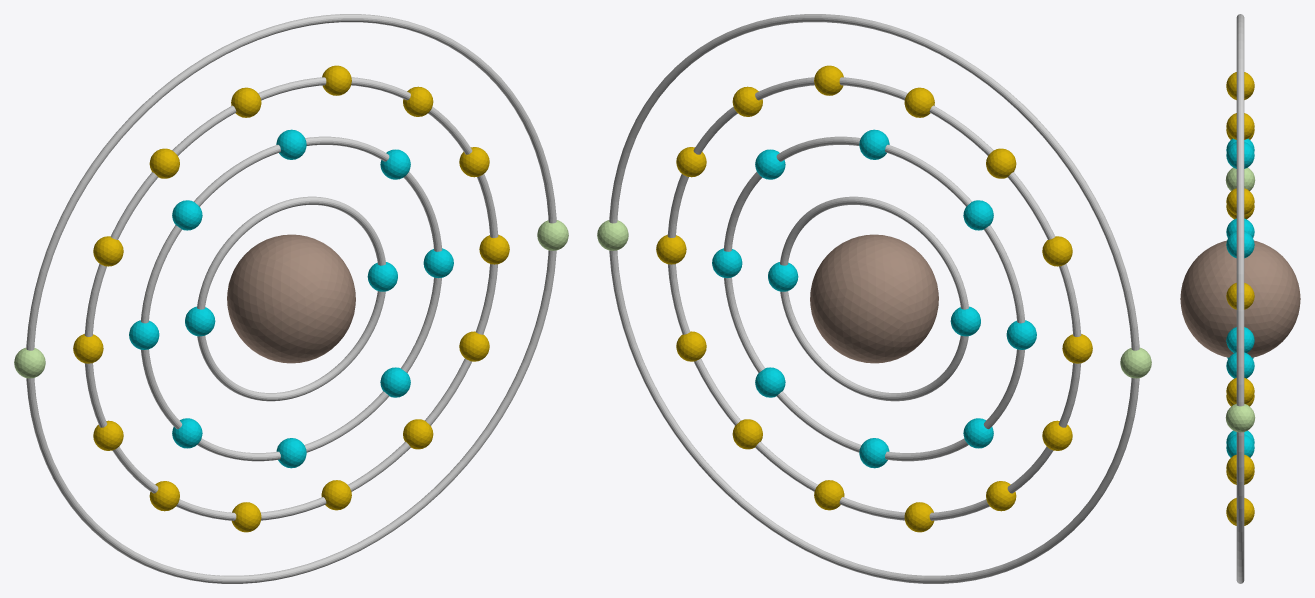
3 views of the same model, side by side, from view 1: azimuth 30°, elevation 25°; view 2: azimuth 150°, elevation 25°; view 3: azimuth 270°, elevation 25° (orthographic). The views are drawn at different scales.
Parts seen in each view (by area): view 1: Camada_4, Nucleo_Fe, Camada_3, Camada_2, Camada_1, e4_2, e4_1, e2_4, e2_8, e3_7, e3_14, e3_6 (+19 smaller); view 2: Camada_4, Nucleo_Fe, Camada_3, Camada_2, Camada_1, e4_2, e4_1, e2_4, e2_8, e3_7, e3_14, e3_6 (+19 smaller); view 3: Nucleo_Fe, Camada_4, e4_1, e2_3, e3_4, e3_5, e3_14, e2_2, e3_3, e3_13, e1_1, e3_2 (+5 smaller).
Part boxes in pixels (bbox=[...]): Camada_4: bbox=[26, 14, 556, 583]; Nucleo_Fe: bbox=[227, 234, 355, 363]; Camada_3: bbox=[84, 77, 498, 520]; Camada_2: bbox=[140, 136, 442, 461]; Camada_1: bbox=[197, 196, 385, 401]; e4_2: bbox=[14, 347, 45, 378]; e4_1: bbox=[537, 220, 568, 250]; e2_4: bbox=[172, 200, 202, 230]; e2_8: bbox=[380, 367, 410, 397]; e3_7: bbox=[93, 236, 123, 266]; e3_14: bbox=[459, 331, 489, 361]; e3_6: bbox=[149, 148, 179, 178]; Camada_4: bbox=[609, 14, 1139, 583]; Nucleo_Fe: bbox=[810, 234, 938, 363]; Camada_3: bbox=[667, 77, 1081, 520]; Camada_2: bbox=[723, 136, 1025, 461]; Camada_1: bbox=[780, 196, 968, 401]; e4_2: bbox=[1120, 347, 1151, 378]; e4_1: bbox=[597, 220, 628, 250]; e2_4: bbox=[963, 200, 993, 230]; e2_8: bbox=[755, 367, 785, 397]; e3_7: bbox=[1042, 236, 1072, 266]; e3_14: bbox=[676, 331, 706, 361]; e3_6: bbox=[986, 148, 1016, 178]; Nucleo_Fe: bbox=[1180, 240, 1300, 357]; Camada_4: bbox=[1236, 14, 1244, 583]; e4_1: bbox=[1225, 404, 1255, 432]; e2_3: bbox=[1226, 142, 1254, 168]; e3_4: bbox=[1226, 113, 1254, 139]; e3_5: bbox=[1226, 72, 1254, 98]; e3_14: bbox=[1226, 454, 1254, 481]; e2_2: bbox=[1226, 231, 1254, 258]; e3_3: bbox=[1226, 188, 1254, 215]; e3_13: bbox=[1226, 498, 1254, 524]; e1_1: bbox=[1226, 327, 1254, 352]; e3_2: bbox=[1226, 283, 1254, 309].
Bounding box in the file's own units: 2.17 × 2.09 × 0.44.
